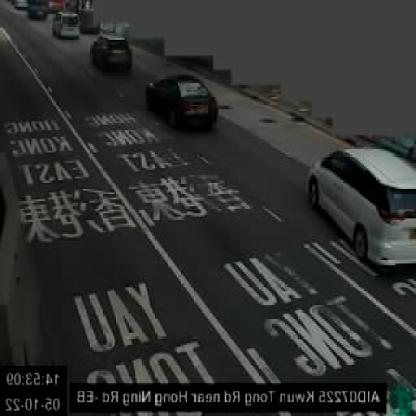Car: (306, 147, 416, 275), (148, 73, 220, 130), (94, 35, 135, 74), (53, 10, 82, 42)
